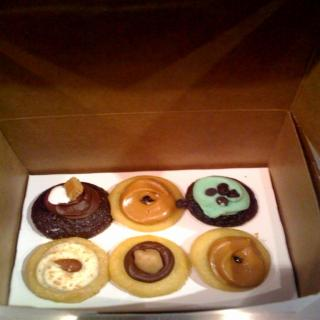Doughnut: (23, 176, 275, 304)
